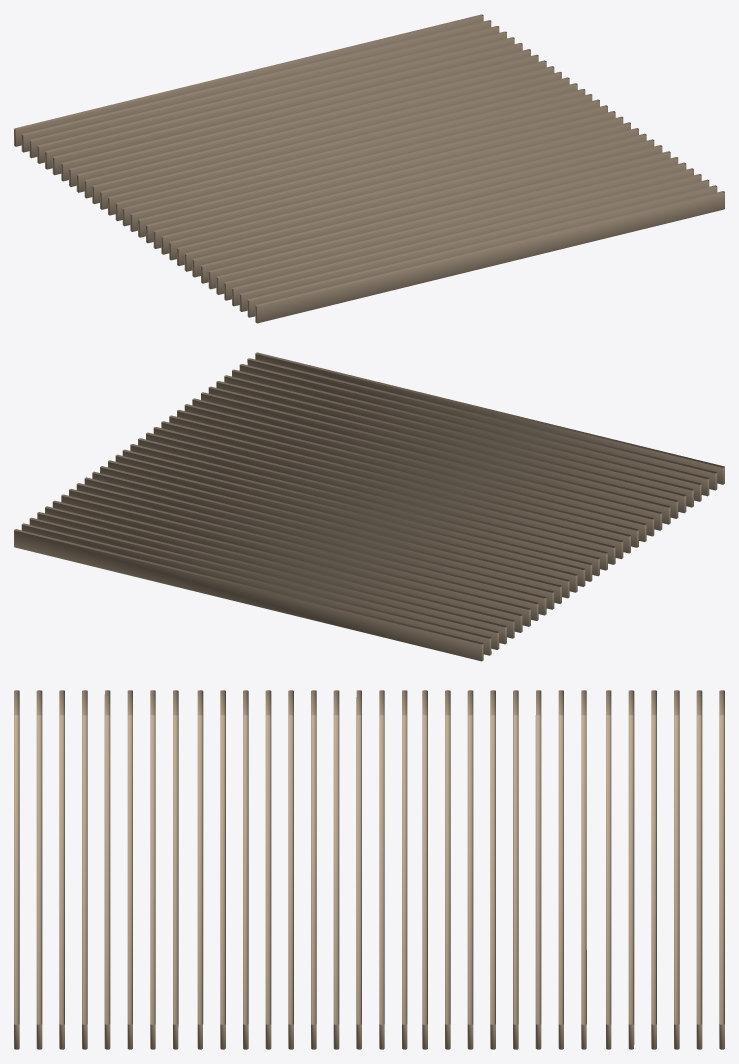
The model's file is WoodenSticks.glb.
3 views of the same model, one above another, from view 1: azimuth 30°, elevation 25°; view 2: azimuth 150°, elevation 25°; view 3: azimuth 270°, elevation 25° (orthographic). The views are drawn at different scales.
Visible parts, largest first — view 1: Wooden_Sticks.001; view 2: Wooden_Sticks.001; view 3: Wooden_Sticks.001.
Part boxes in pixels (box(x1,y1,x2,y2)): Wooden_Sticks.001: box(14, 14, 724, 323); Wooden_Sticks.001: box(14, 352, 724, 661); Wooden_Sticks.001: box(14, 690, 724, 1049).
Bounding box in the file's own units: 20.04 × 0.71 × 18.01.
